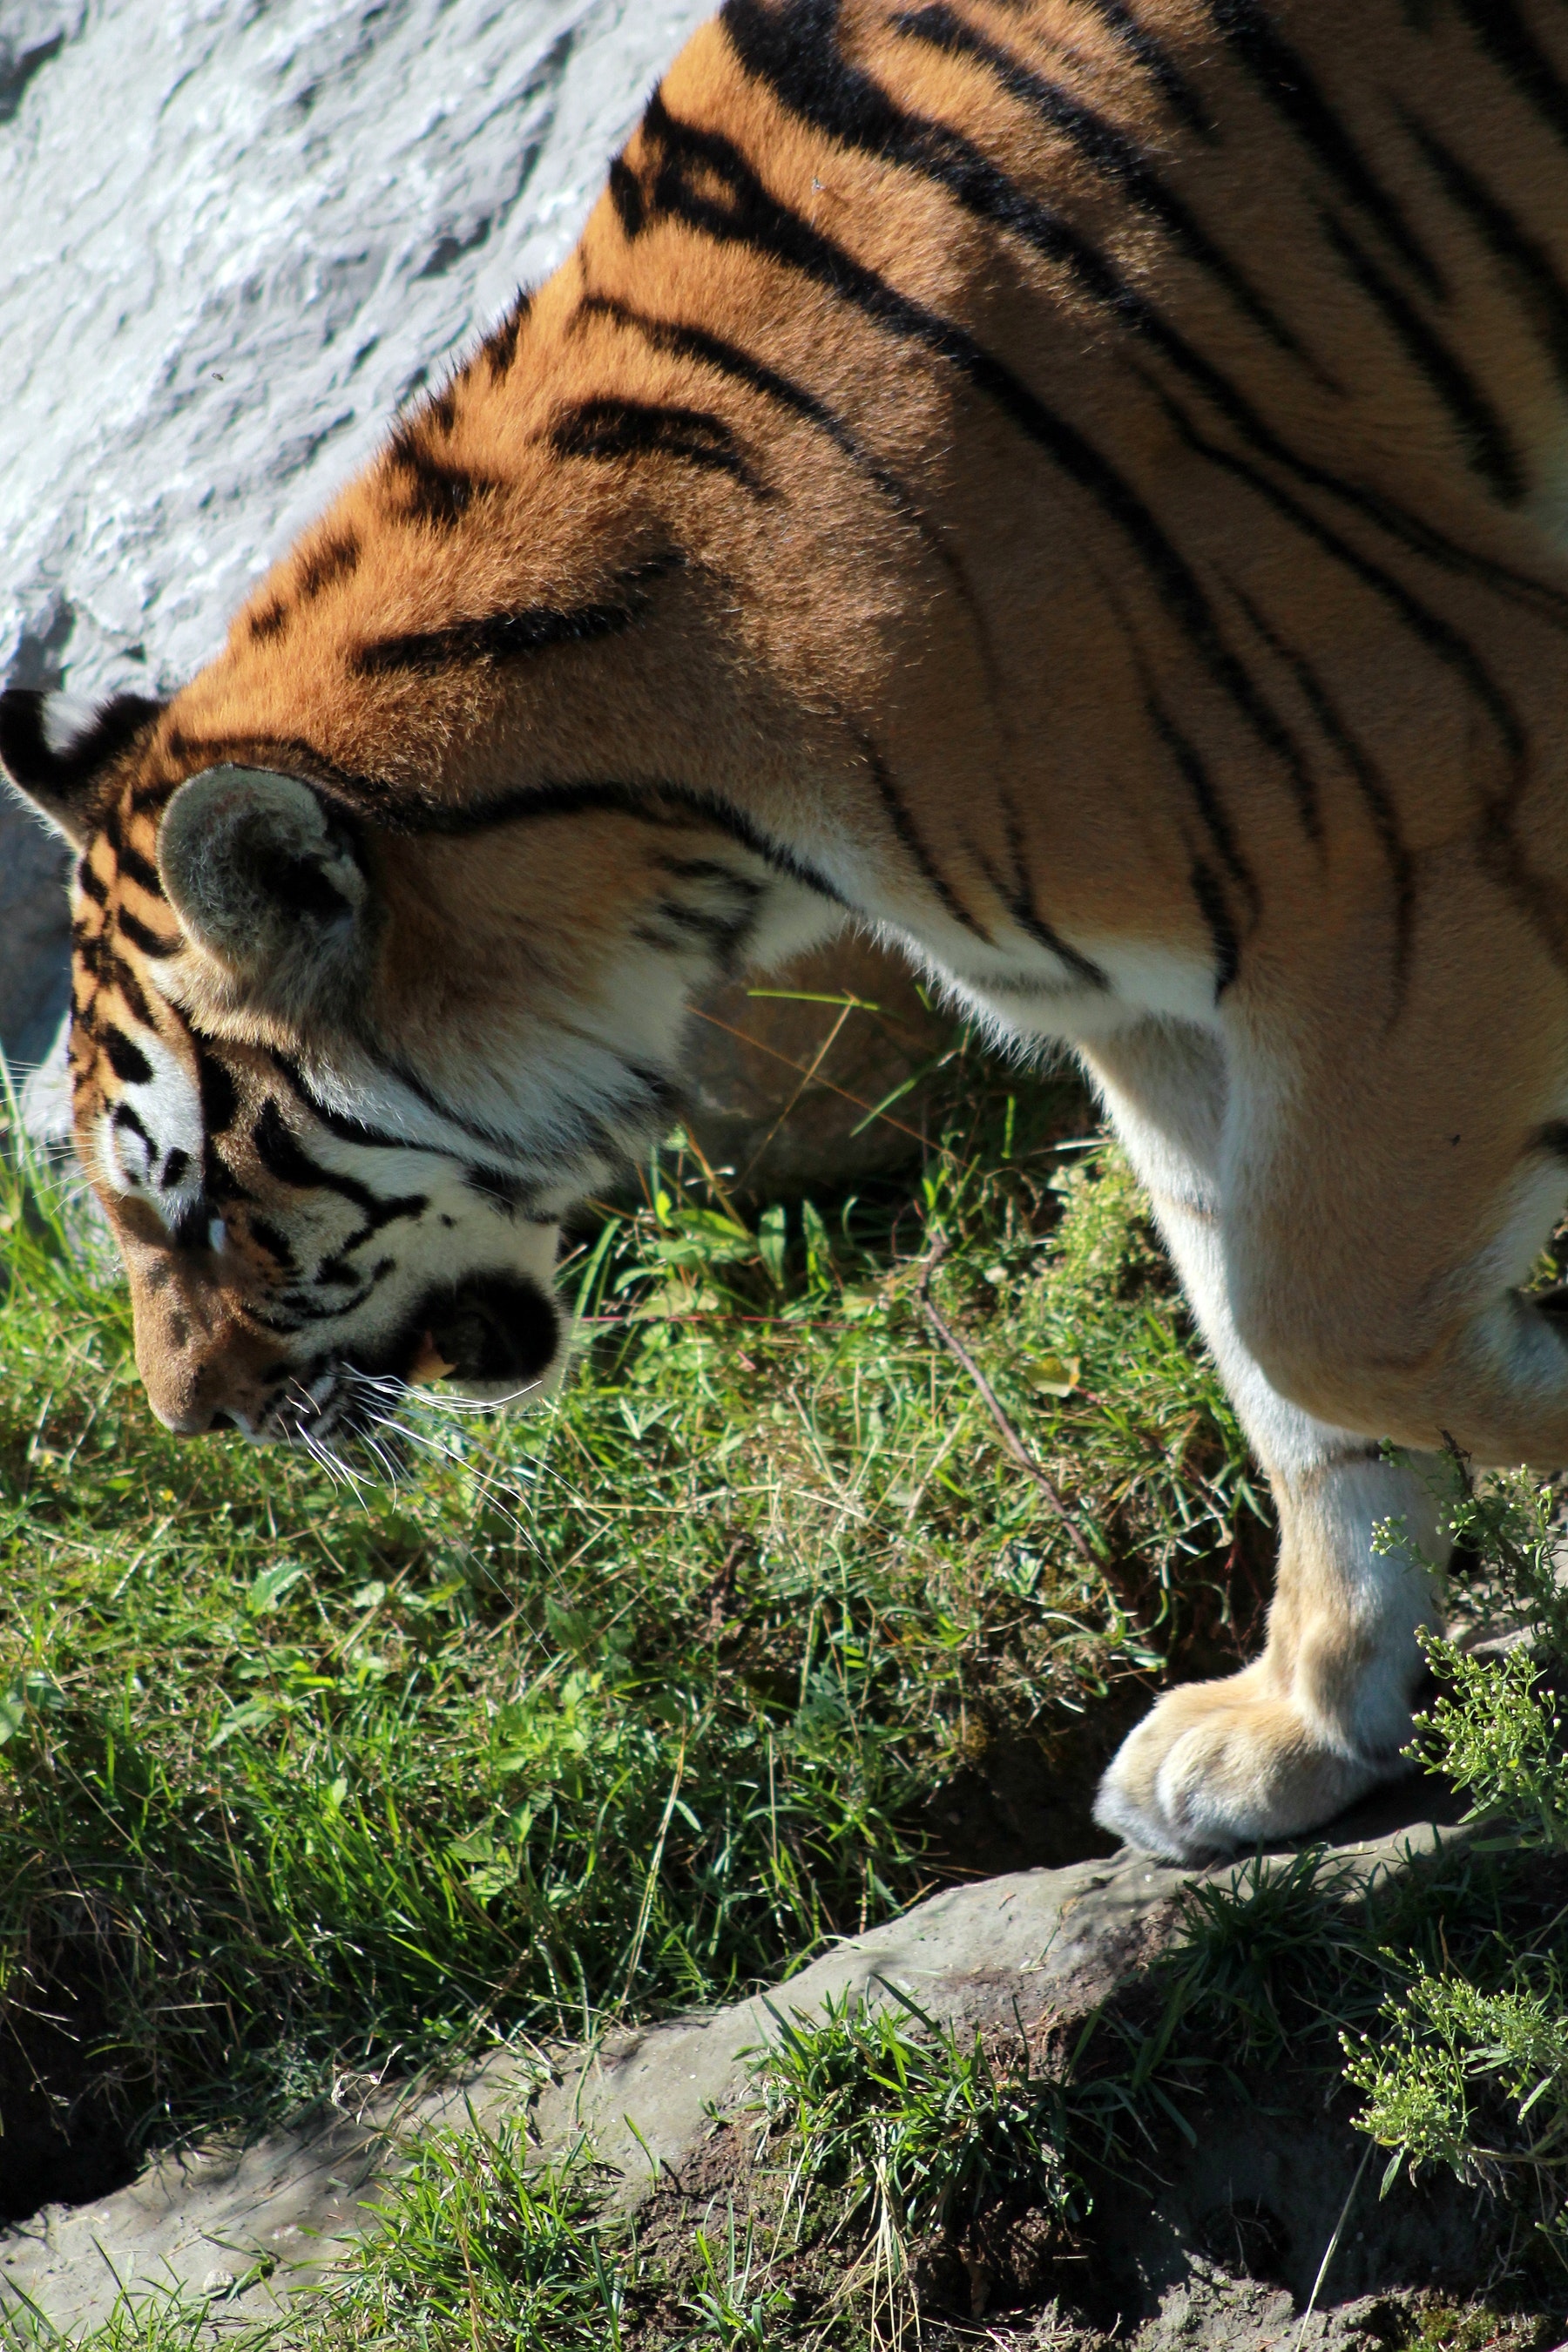tiger: (28, 16, 1561, 2032)
